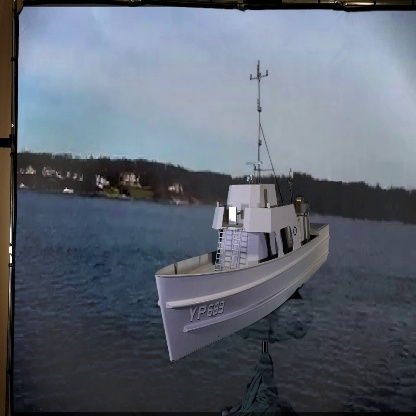YP689: (154, 65, 331, 363)
